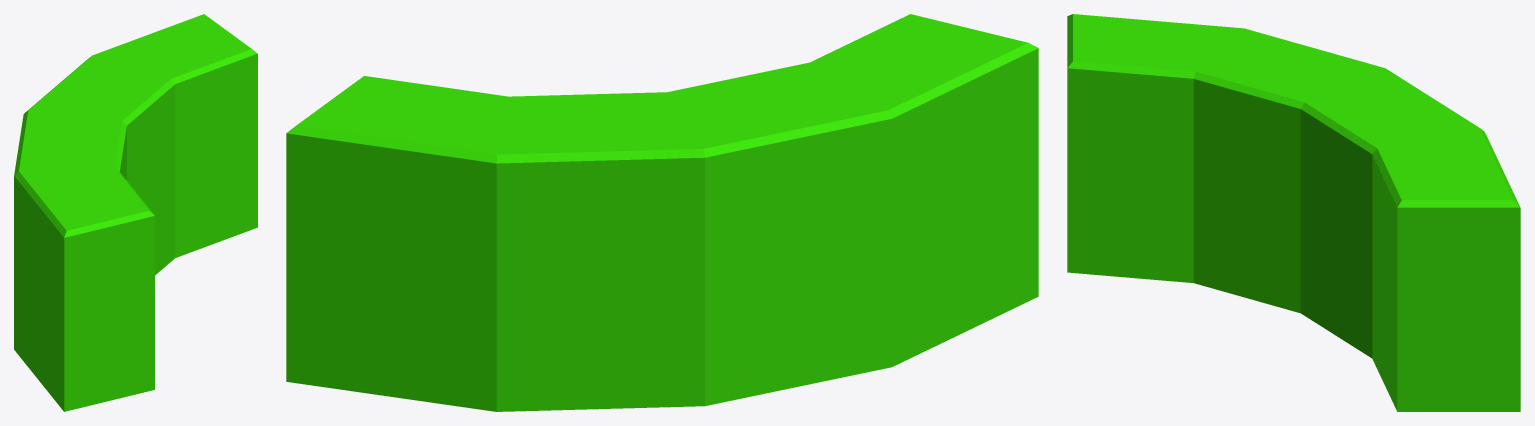
The model's file is round_4x2_01.fbx.
3 renders of one model, left to right at view 1: azimuth 30°, elevation 25°; view 2: azimuth 150°, elevation 25°; view 3: azimuth 270°, elevation 25°, orthographic. The views are drawn at different scales.
Parts seen in each view (by area): view 1: round_4x2_01; view 2: round_4x2_01; view 3: round_4x2_01.
Part boxes in pixels (<box>): round_4x2_01: <box>14,14,257,411</box>; round_4x2_01: <box>286,14,1038,411</box>; round_4x2_01: <box>1067,14,1520,411</box>.
Size of the model in its own units: 412 by 210 by 412.
